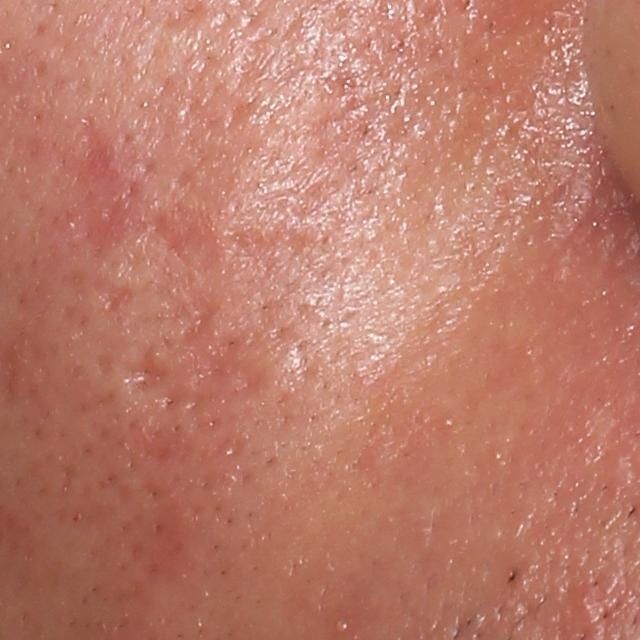atrophic_scar: (173, 300, 264, 410), (126, 338, 178, 393), (87, 275, 136, 325)
